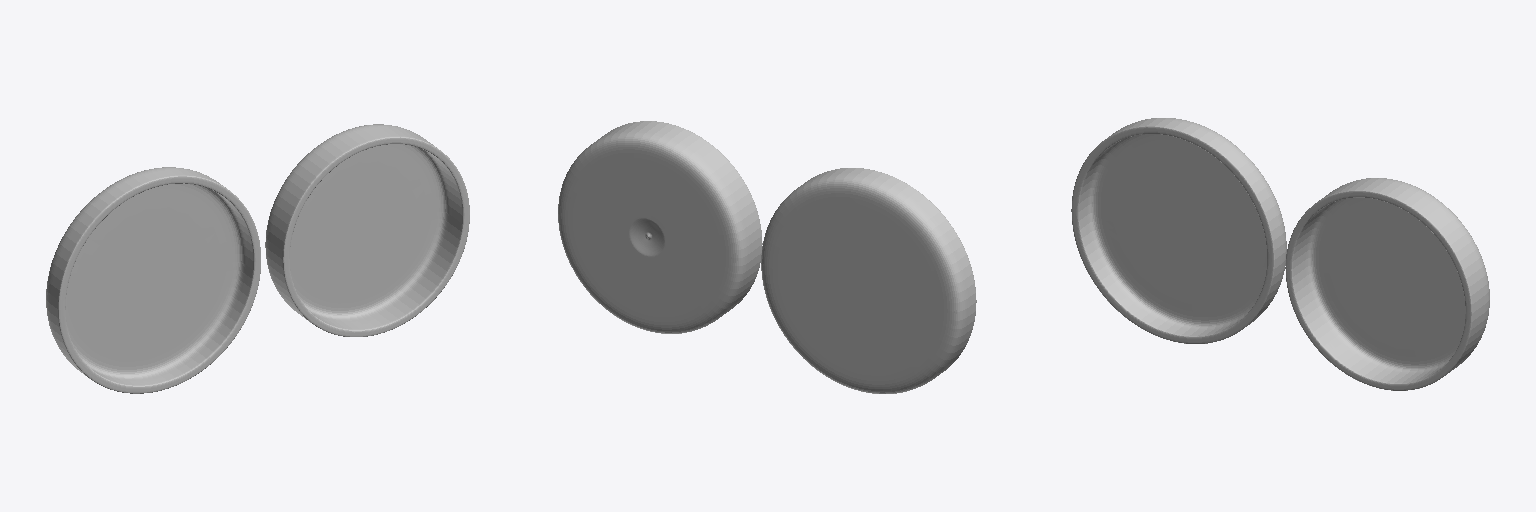
Rendered from petri_dish.obj.
The picture shows the model from 3 angles: view 1: azimuth 30°, elevation 25°; view 2: azimuth 150°, elevation 25°; view 3: azimuth 330°, elevation 25°; orthographic projection.
Visible parts, largest first — view 1: 17194_Petri_Dish; view 2: 17194_Petri_Dish; view 3: 17194_Petri_Dish.
Boxes of the visible parts, x1=… form: 17194_Petri_Dish: x1=46, y1=124, x2=469, y2=393; 17194_Petri_Dish: x1=558, y1=121, x2=976, y2=393; 17194_Petri_Dish: x1=1071, y1=118, x2=1489, y2=390.
Size of the model in its own units: 21.32 by 10.67 by 2.05.